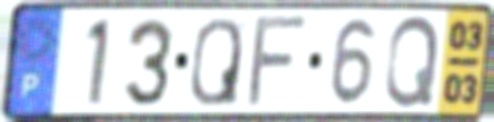1: (82, 16, 113, 108)
3: (123, 15, 176, 109)
6: (329, 15, 378, 108)
F: (243, 13, 313, 110)
Q: (382, 13, 443, 110), (187, 15, 244, 109)
